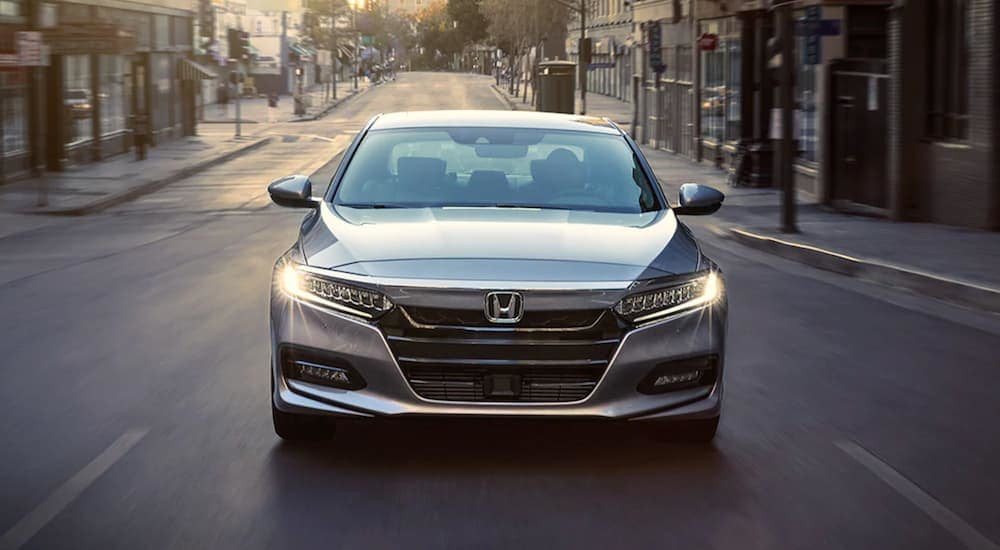car: (264, 107, 731, 451)
